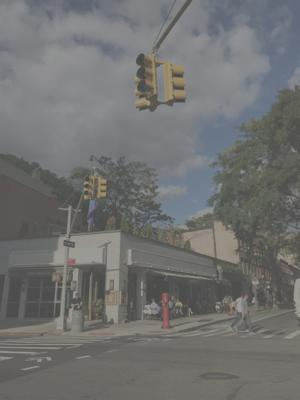International Road Signal Light: (134, 54, 158, 109), (163, 60, 186, 105), (84, 176, 94, 200)
